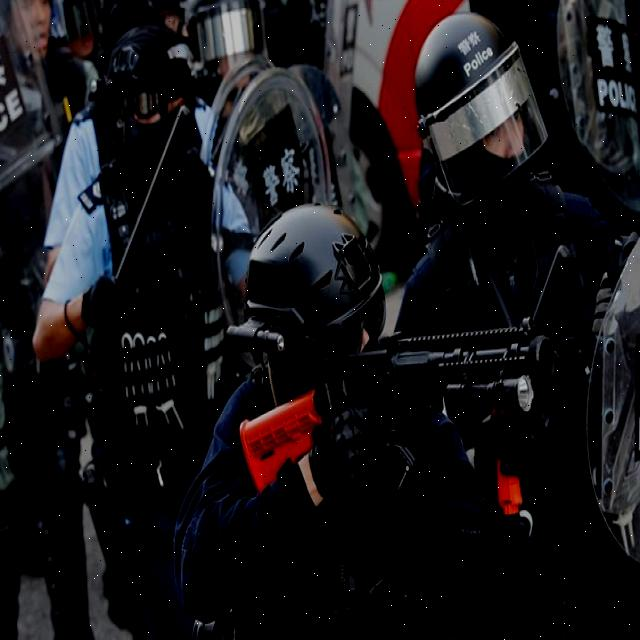police: (173, 185, 551, 640), (373, 4, 640, 592), (42, 17, 262, 640)
